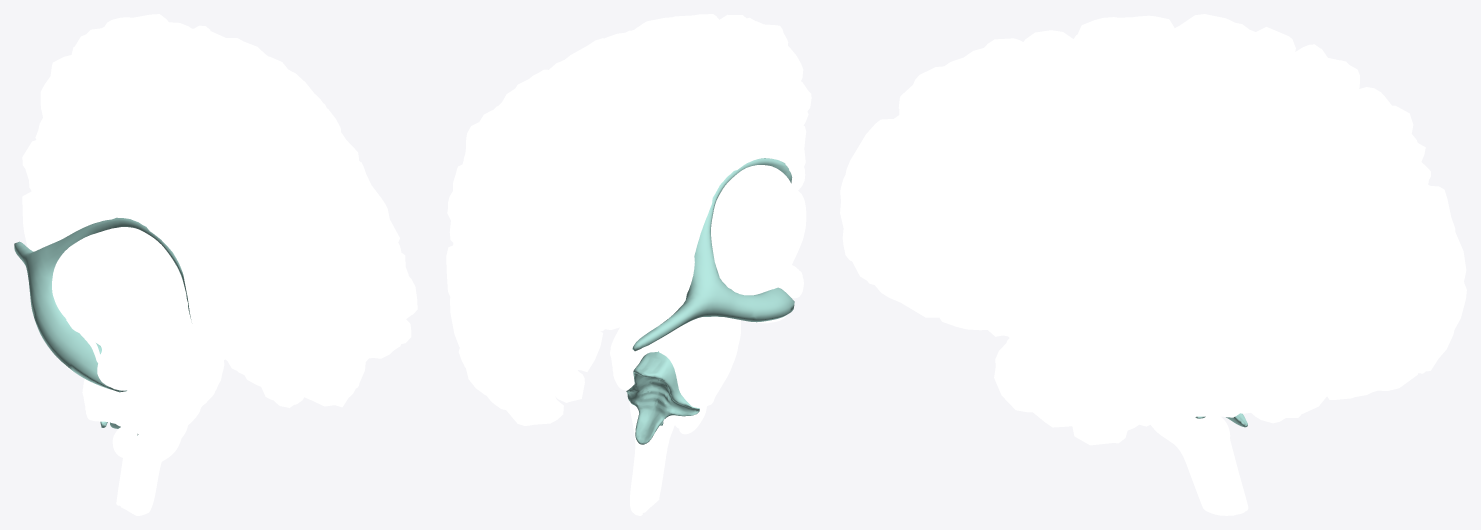
Rendered from brain.glb.
The picture shows the model from 3 angles, left to right: view 1: azimuth 30°, elevation 25°; view 2: azimuth 150°, elevation 25°; view 3: azimuth 270°, elevation 25°; orthographic projection. The views are drawn at different scales.
Parts seen in each view (by area): view 1: Superior frontal gyrus.l, Corpus callosum, Middle frontal gyrus.l, Precuneus.l, Putamen.r, Lateral ventricle.r, Pons.r, Straight gyrus (Gyrus rectus).l, Lentiform nucleus.r, Paracentral gyrus and sulcus*.l, Caudate nucleus.r, Orbital gyri (Frontomarginal gyrus and sulcus*).l (+21 smaller); view 2: Superior frontal gyrus.l, Corpus callosum, Precuneus.l, Angular gyrus.l, Superior parietal lobule.l, Lateral ventricle.r, Pons.r, Paracentral gyrus and sulcus*.l, Cuneus.l, Lingual gyrus.l, Putamen.r, Occipital pole.l (+17 smaller); view 3: Middle frontal gyrus.l, Precentral gyrus.l, Middle temporal gyrus.l, Superior frontal gyrus.l, Postcentral gyrus.l, Supramarginal gyrus.l, Superior temporal gyrus (Lateral part).l, Angular gyrus.l, Inferior temporal gyrus.l, Superior parietal lobule.l, Lateral occipital gyrus (Middle occipital gyrus*).l, Triangular part of inferior frontal gyrus.l (+17 smaller).
Part boxes in pixels (x1,y1,x2,y2): Superior frontal gyrus.l: [128, 52, 360, 356]; Corpus callosum: [27, 196, 281, 339]; Middle frontal gyrus.l: [247, 66, 417, 315]; Precuneus.l: [40, 17, 130, 208]; Putamen.r: [65, 258, 163, 348]; Lateral ventricle.r: [14, 217, 191, 392]; Pons.r: [82, 361, 184, 435]; Straight gyrus (Gyrus rectus).l: [215, 331, 339, 393]; Lentiform nucleus.r: [57, 230, 174, 341]; Paracentral gyrus and sulcus*.l: [103, 14, 184, 104]; Caudate nucleus.r: [52, 227, 194, 364]; Orbital gyri (Frontomarginal gyrus and sulcus*).l: [323, 299, 411, 377]; Superior frontal gyrus.l: [631, 14, 811, 153]; Corpus callosum: [614, 138, 805, 309]; Precuneus.l: [541, 101, 640, 298]; Angular gyrus.l: [449, 120, 545, 274]; Superior parietal lobule.l: [509, 101, 588, 251]; Lateral ventricle.r: [632, 158, 794, 351]; Pons.r: [659, 318, 740, 407]; Paracentral gyrus and sulcus*.l: [560, 45, 656, 144]; Cuneus.l: [498, 269, 603, 367]; Lingual gyrus.l: [525, 309, 611, 402]; Putamen.r: [753, 189, 806, 288]; Occipital pole.l: [474, 323, 563, 425]; Middle frontal gyrus.l: [849, 76, 1164, 289]; Precentral gyrus.l: [1046, 24, 1228, 284]; Middle temporal gyrus.l: [1029, 267, 1376, 415]; Superior frontal gyrus.l: [840, 15, 1174, 200]; Postcentral gyrus.l: [1102, 34, 1277, 266]; Supramarginal gyrus.l: [1159, 136, 1329, 297]; Superior temporal gyrus (Lateral part).l: [1002, 275, 1286, 383]; Angular gyrus.l: [1294, 134, 1438, 297]; Inferior temporal gyrus.l: [1057, 327, 1367, 445]; Superior parietal lobule.l: [1274, 48, 1425, 164]; Lateral occipital gyrus (Middle occipital gyrus*).l: [1356, 212, 1443, 363]; Triangular part of inferior frontal gyrus.l: [958, 193, 1029, 311].
Size of the model in its own units: 0.1065 by 0.1608 by 0.1807.
